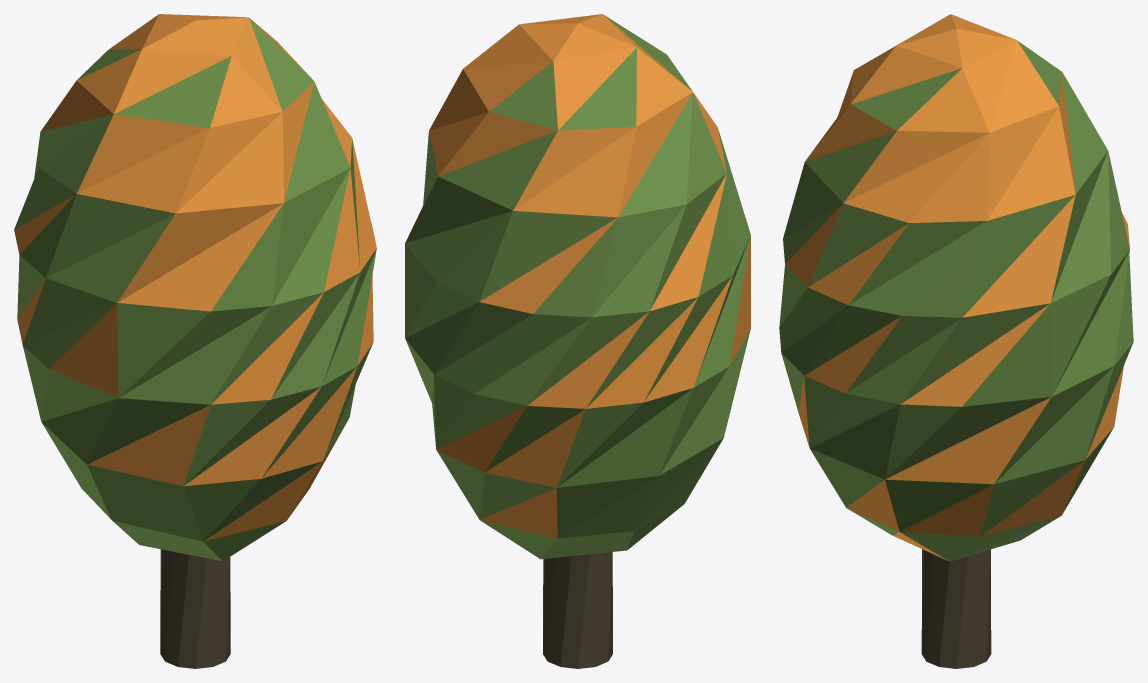
Rendered from autumn_leaves2.dae.
The picture shows the model from 3 angles, left to right: view 1: azimuth 30°, elevation 25°; view 2: azimuth 150°, elevation 25°; view 3: azimuth 270°, elevation 25°; orthographic projection.
Visible parts, largest first — view 1: Kugel, Zylinder; view 2: Kugel, Zylinder; view 3: Kugel, Zylinder.
Part boxes in pixels (bbox=[...]): Kugel: bbox=[14, 14, 376, 561]; Zylinder: bbox=[160, 549, 230, 668]; Kugel: bbox=[405, 14, 750, 559]; Zylinder: bbox=[543, 552, 612, 668]; Kugel: bbox=[779, 14, 1133, 561]; Zylinder: bbox=[921, 549, 991, 668].
Bounding box in the file's own units: 15.14 × 30.05 × 15.43.
